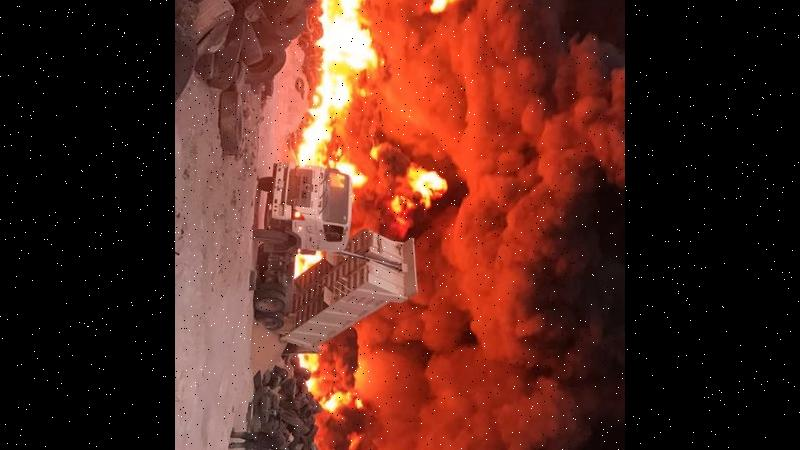fire: (275, 0, 406, 176), (286, 334, 371, 450)
